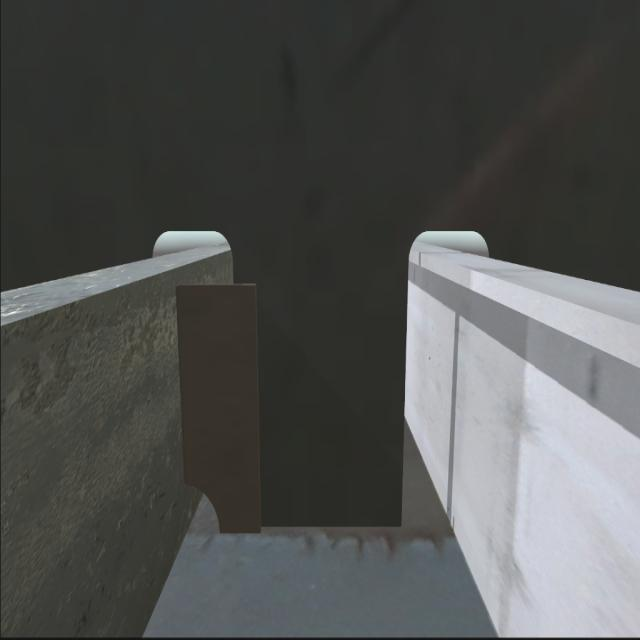fillet_hole: (188, 480, 220, 532)
fillet_yong_jeop_jang: (216, 521, 416, 538)
longi_yong_jeop_jang: (175, 282, 192, 496)
plate_CP01: (178, 289, 262, 536)
